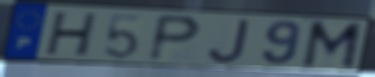5: (101, 13, 143, 60)
9: (259, 19, 303, 69)
H: (42, 11, 101, 59)
J: (205, 18, 252, 65)
M: (298, 20, 365, 72)
P: (145, 13, 205, 64)
